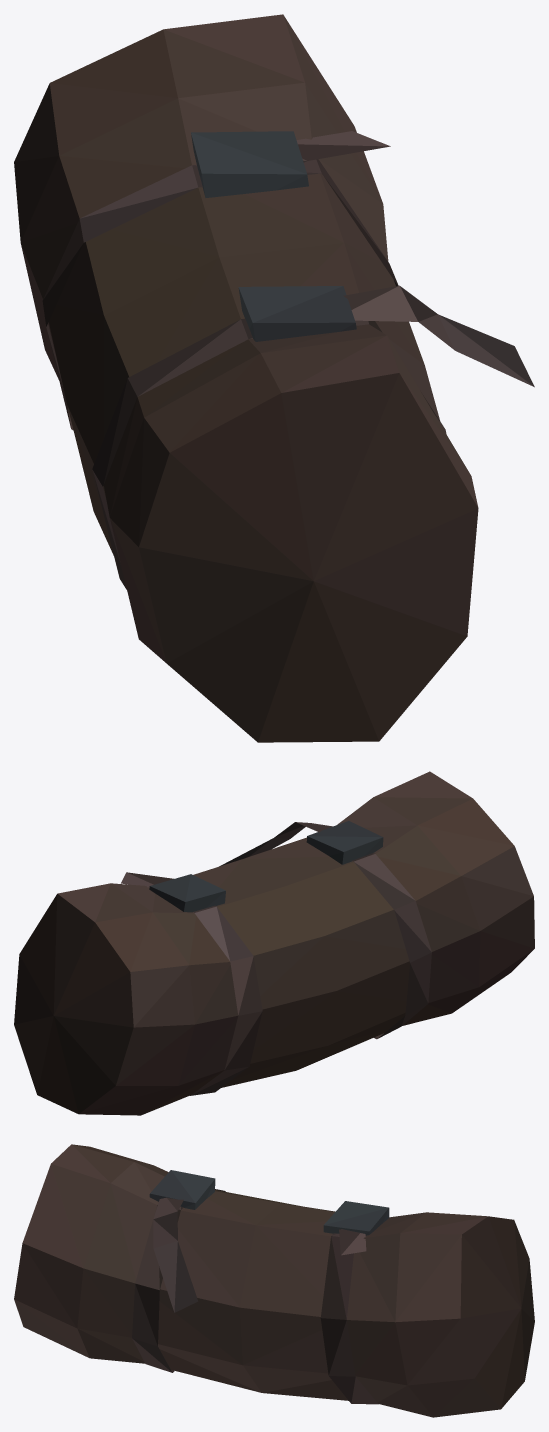
File: prop_supply_bedroll.fbx
The picture shows the model from 3 angles, top to bottom: view 1: azimuth 30°, elevation 25°; view 2: azimuth 150°, elevation 25°; view 3: azimuth 270°, elevation 25°; orthographic projection. The views are drawn at different scales.
Visible parts, largest first — view 1: prop_supply_bedroll; view 2: prop_supply_bedroll; view 3: prop_supply_bedroll.
Part boxes in pixels (bbox=[...]): prop_supply_bedroll: bbox=[14, 14, 534, 742]; prop_supply_bedroll: bbox=[14, 771, 534, 1115]; prop_supply_bedroll: bbox=[14, 1144, 534, 1417].
Bounding box in the file's own units: 0.9809 × 0.6277 × 1.48.
